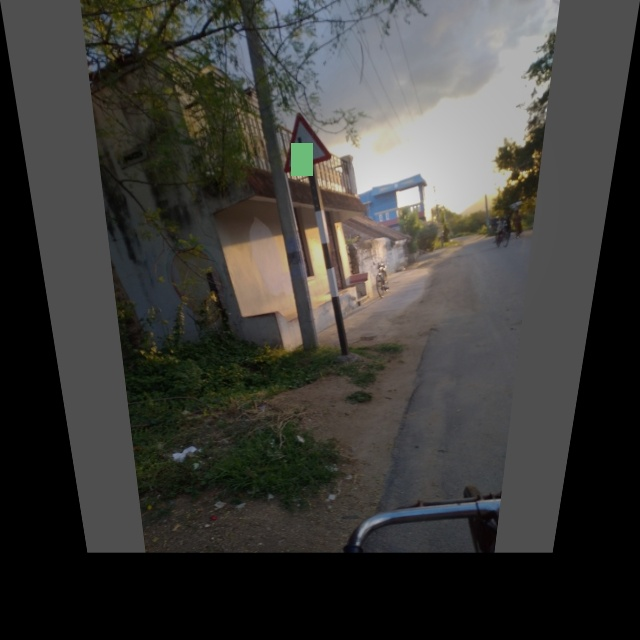Side_Road_Right: (277, 108, 337, 175)
